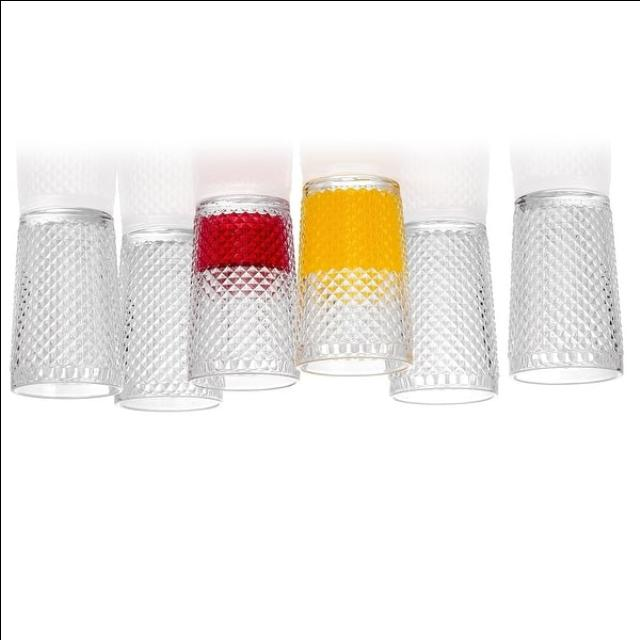glass: (480, 152, 628, 405), (169, 161, 308, 402), (1, 159, 136, 400), (284, 159, 415, 389), (375, 190, 500, 413)
